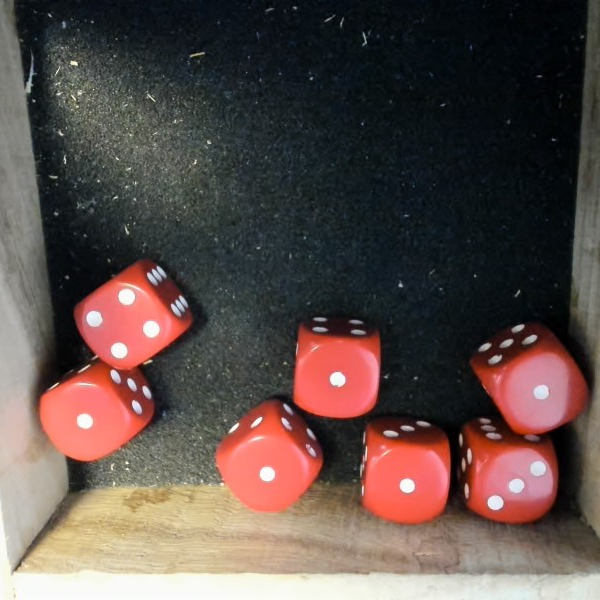red_die_pip1: (457, 302, 595, 445), (198, 389, 334, 526), (29, 343, 164, 472), (296, 309, 378, 420), (360, 418, 450, 517)
red_die_pip3: (461, 417, 556, 523)
red_die_pip4: (60, 246, 201, 385)
